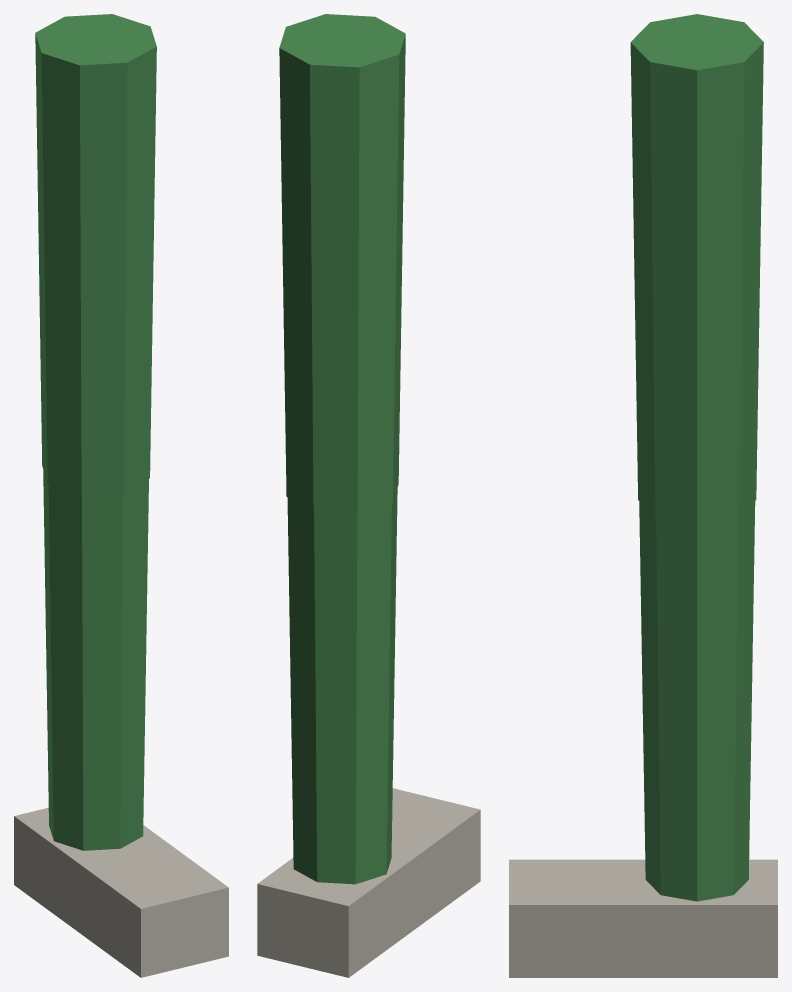
File: PersonHelper3LegL.obj
The picture shows the model from 3 angles, left to right: view 1: azimuth 30°, elevation 25°; view 2: azimuth 150°, elevation 25°; view 3: azimuth 270°, elevation 25°; orthographic projection. The views are drawn at different scales.
Parts seen in each view (by area): view 1: PersonHelper3LegL; view 2: PersonHelper3LegL; view 3: PersonHelper3LegL.
Part boxes in pixels (box(x1,y1,x2,y2)): PersonHelper3LegL: box(14, 14, 228, 977); PersonHelper3LegL: box(257, 14, 480, 977); PersonHelper3LegL: box(509, 14, 777, 977).
Size of the model in its own units: 0.124 by 0.9375 by 0.25.
